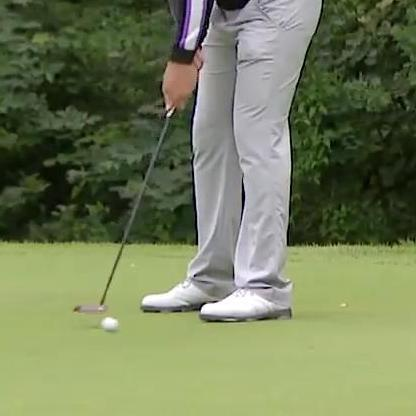golfball: (99, 315, 117, 332)
